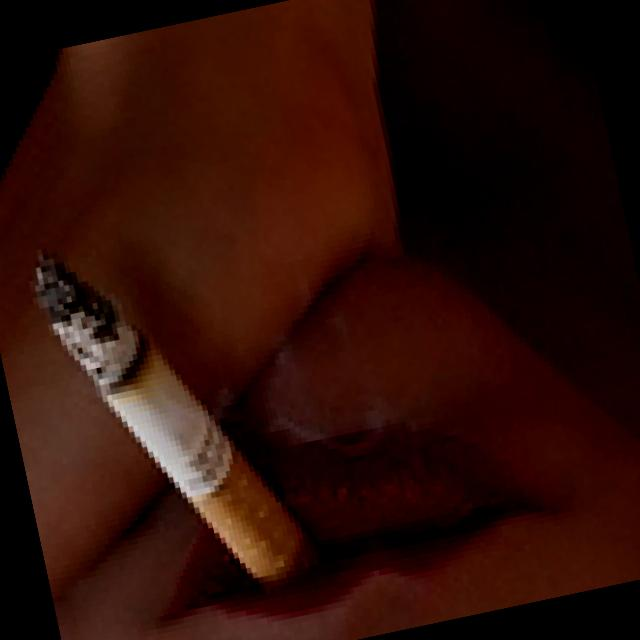smoke: (26, 212, 311, 615)
